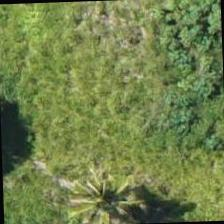Kelapa_Sawit: (60, 146, 154, 223)
